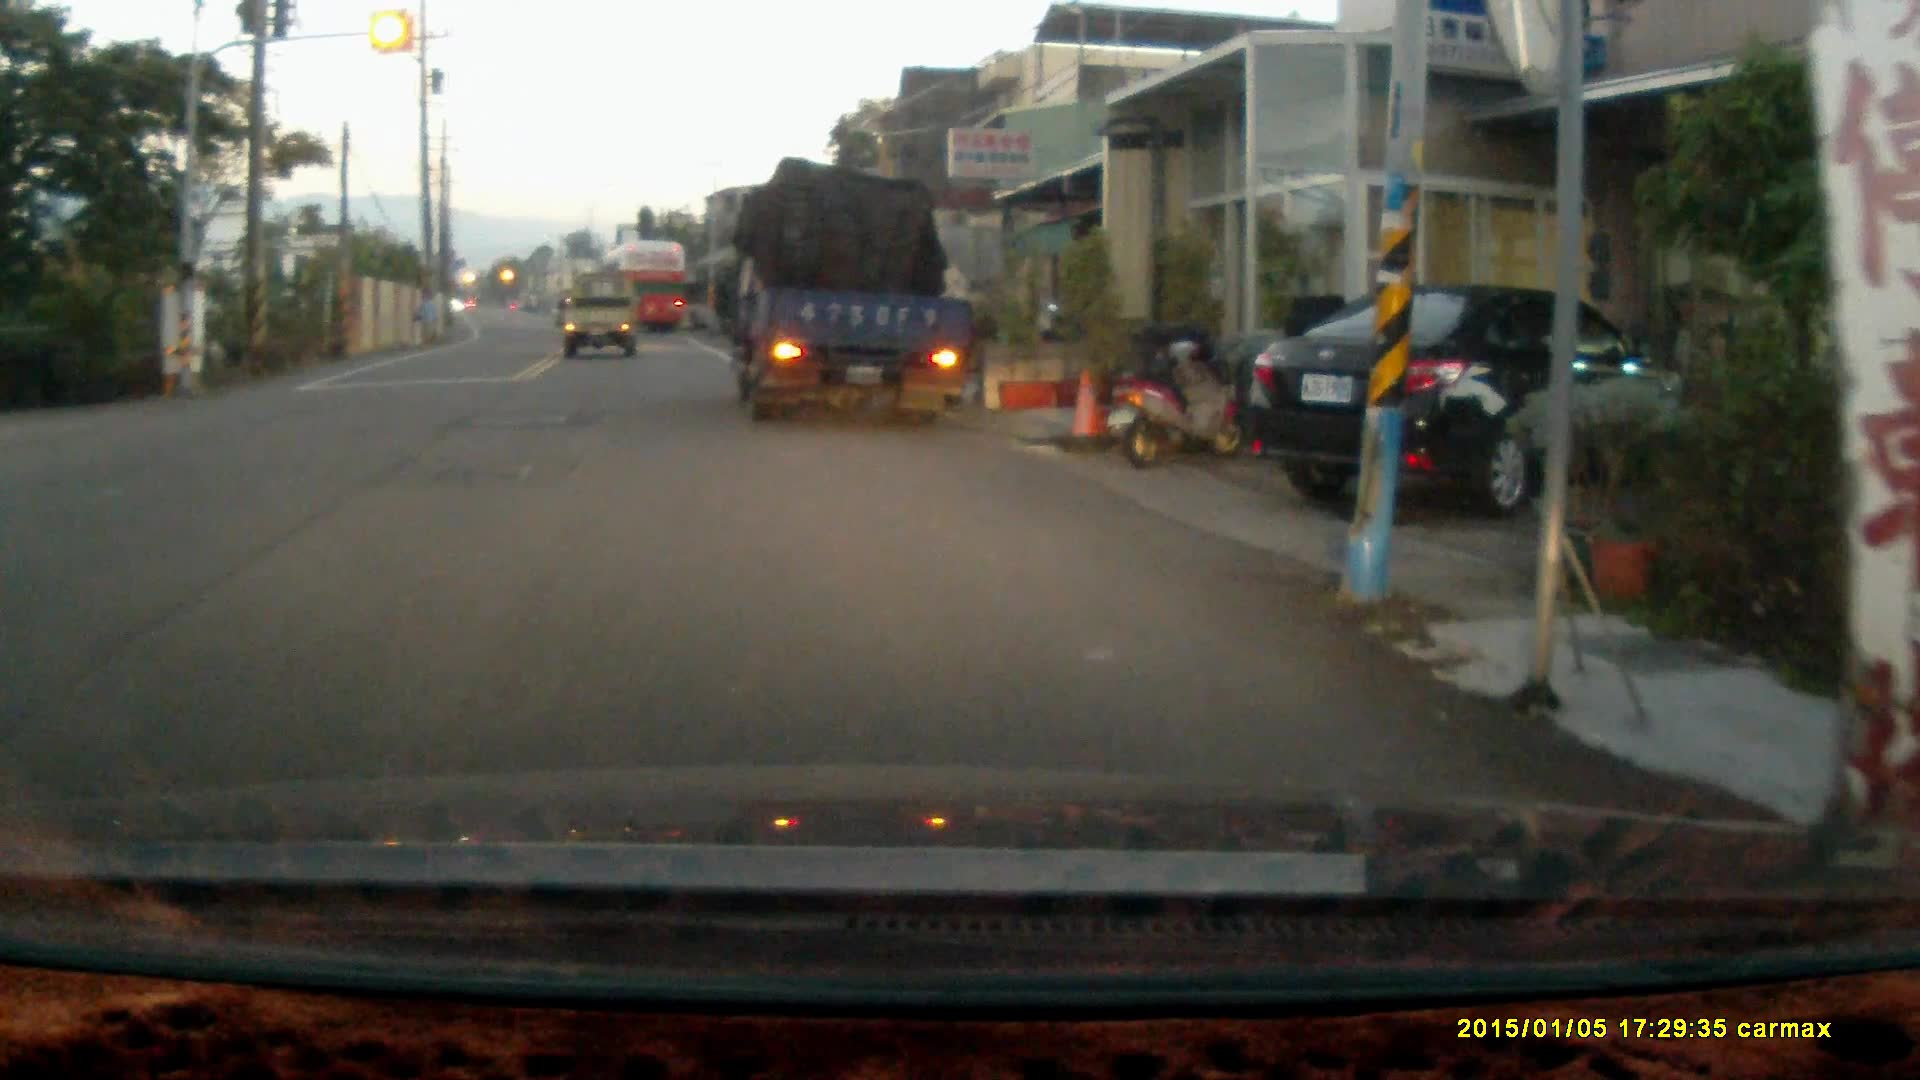vehicle: (1246, 278, 1691, 516), (713, 166, 975, 419), (607, 237, 691, 338), (563, 281, 638, 361)
